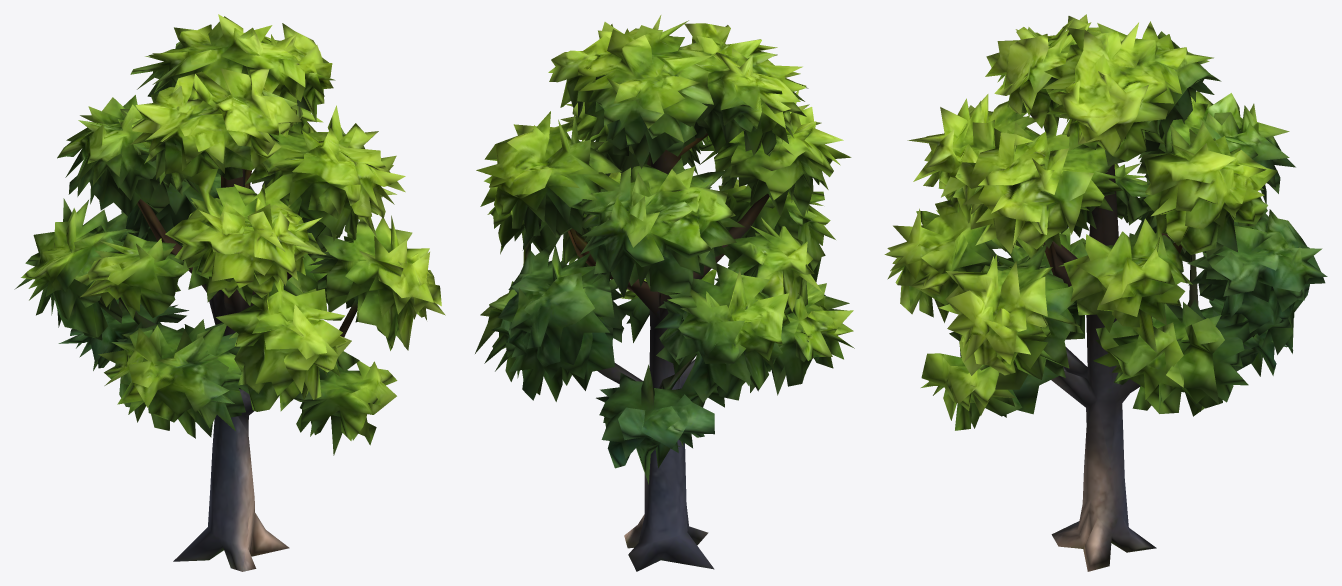
The model's file is broadleaf_tripo.glb.
The picture shows the model from 3 angles, left to right: view 1: azimuth 30°, elevation 25°; view 2: azimuth 150°, elevation 25°; view 3: azimuth 270°, elevation 25°; orthographic projection.
Visible parts, largest first — view 1: tripo_node_44eacd27-a80b-463c-8532-a7e9ab19bca1; view 2: tripo_node_44eacd27-a80b-463c-8532-a7e9ab19bca1; view 3: tripo_node_44eacd27-a80b-463c-8532-a7e9ab19bca1.
Part boxes in pixels (box(x1,y1,x2,y2)): tripo_node_44eacd27-a80b-463c-8532-a7e9ab19bca1: box(14, 14, 445, 571); tripo_node_44eacd27-a80b-463c-8532-a7e9ab19bca1: box(475, 15, 854, 571); tripo_node_44eacd27-a80b-463c-8532-a7e9ab19bca1: box(884, 14, 1327, 571).
Bounding box in the file's own units: 0.6483 × 1 × 0.7597.
Materials: 1 (1 with a texture image).
